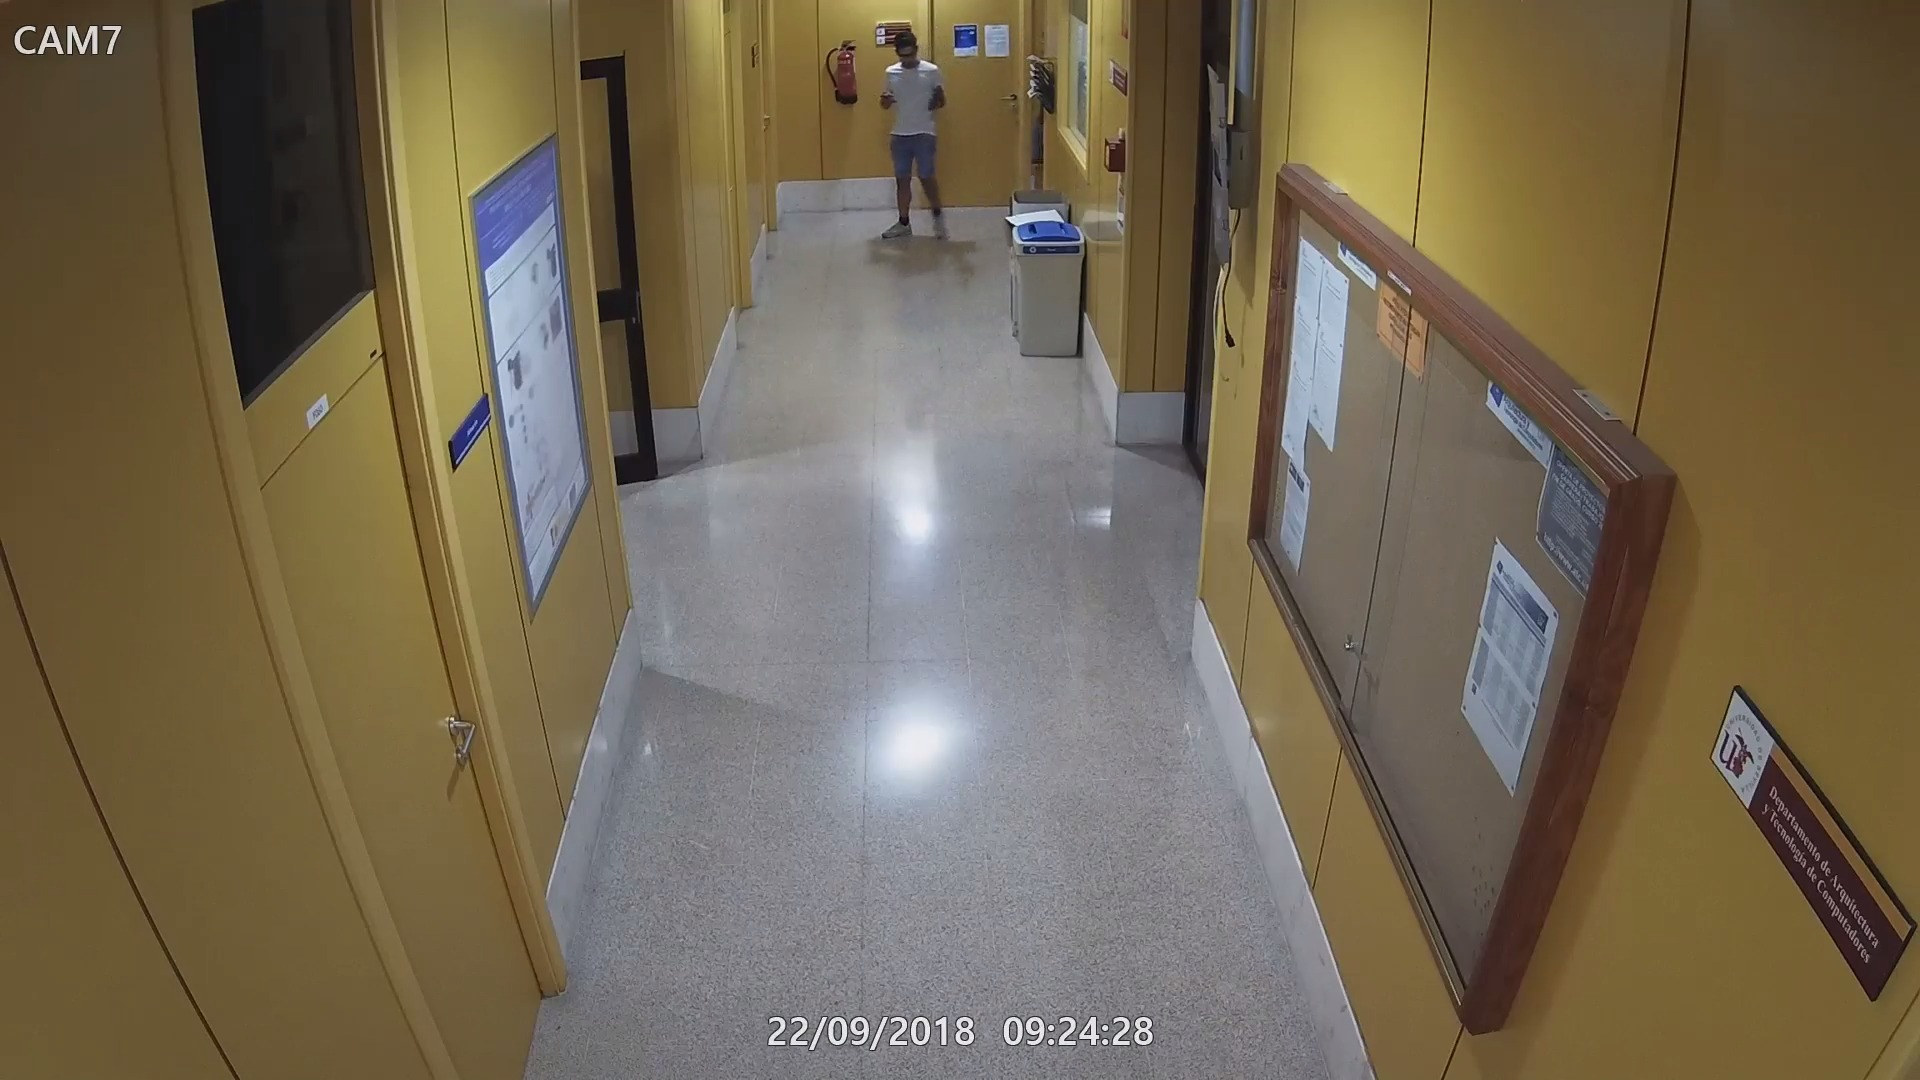Short_rifle: (919, 87, 945, 113)
